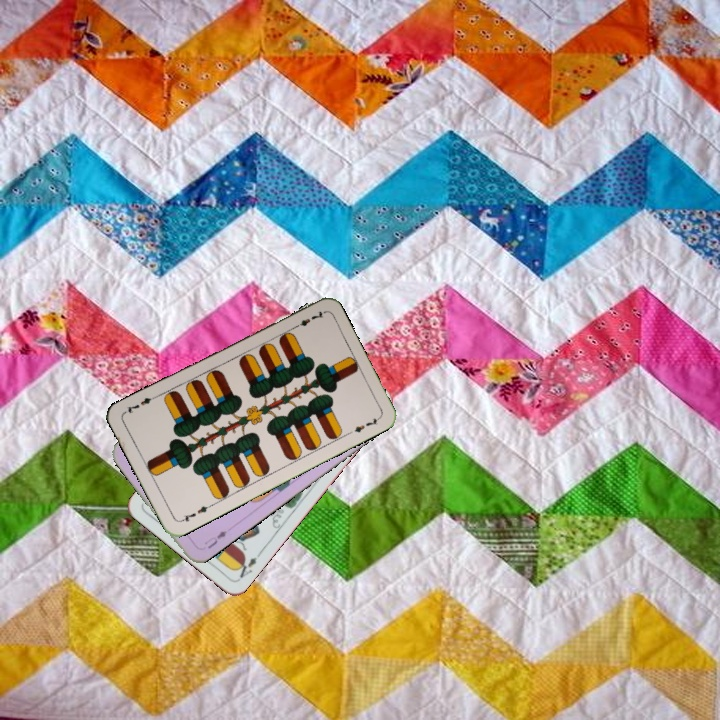E7: (176, 500, 214, 525), (289, 307, 326, 332)
EA: (231, 548, 264, 581)
EU: (200, 527, 229, 551)
